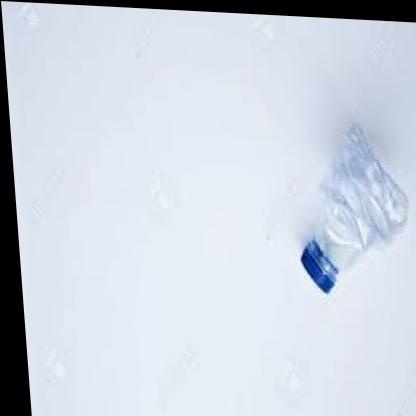trash: (301, 125, 407, 292)
